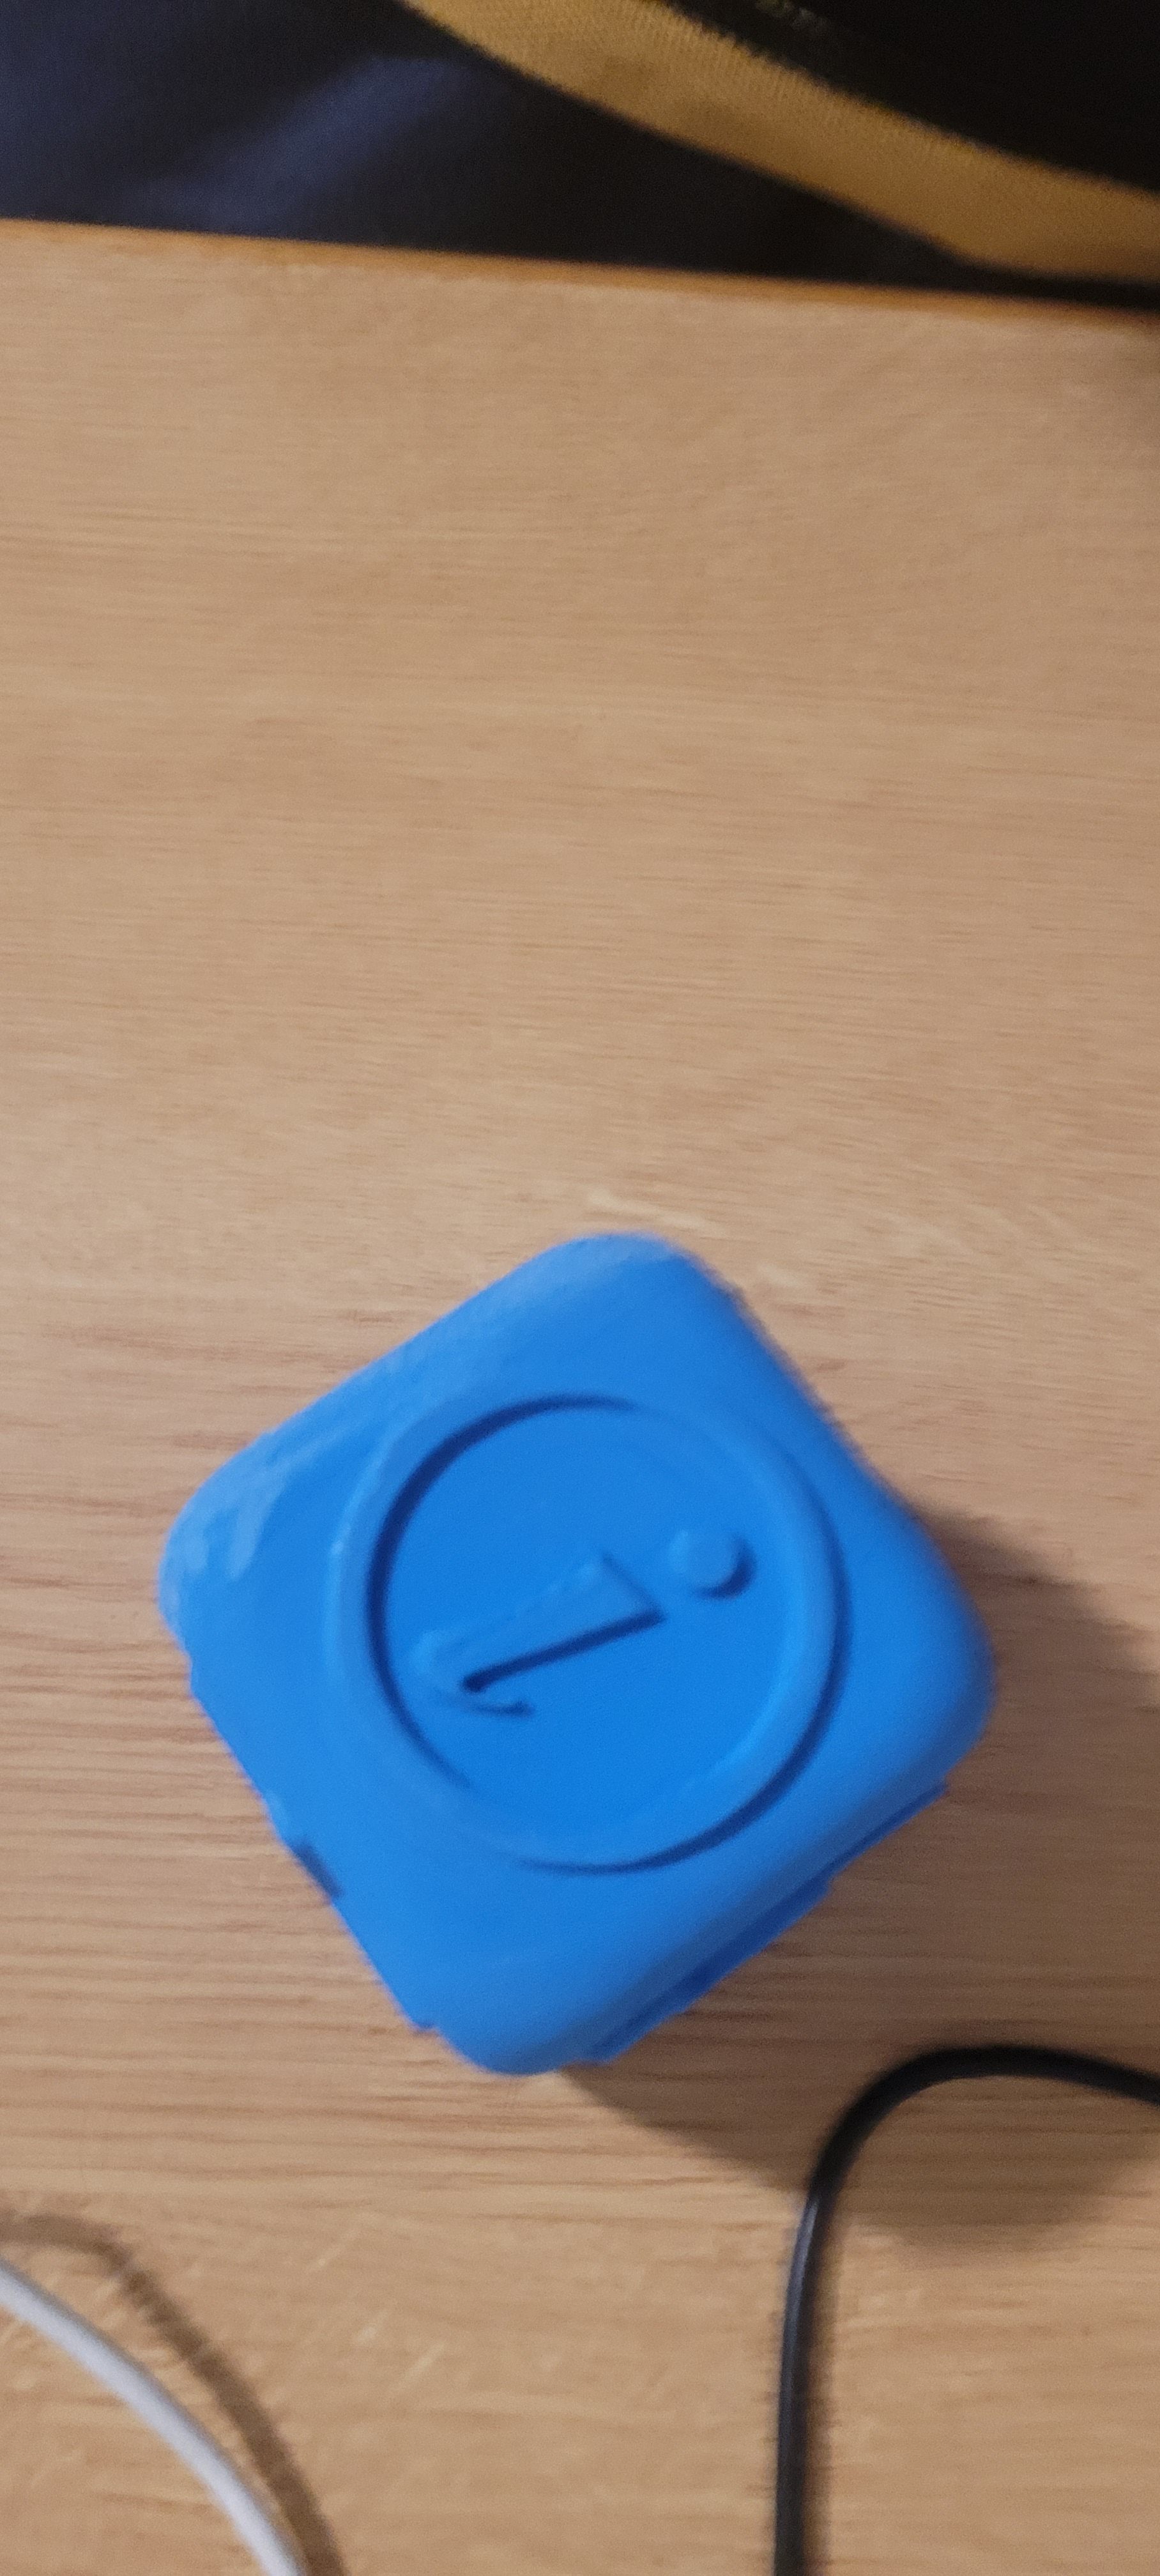Info: (92, 1321, 874, 1947)
